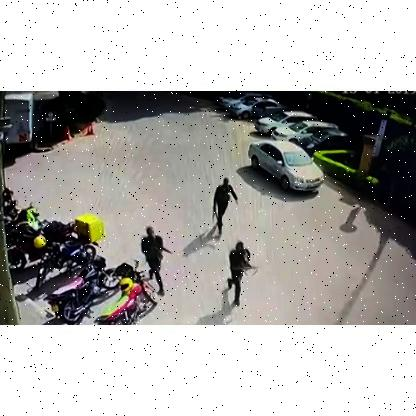gun: (150, 240, 174, 254), (211, 196, 219, 223)
